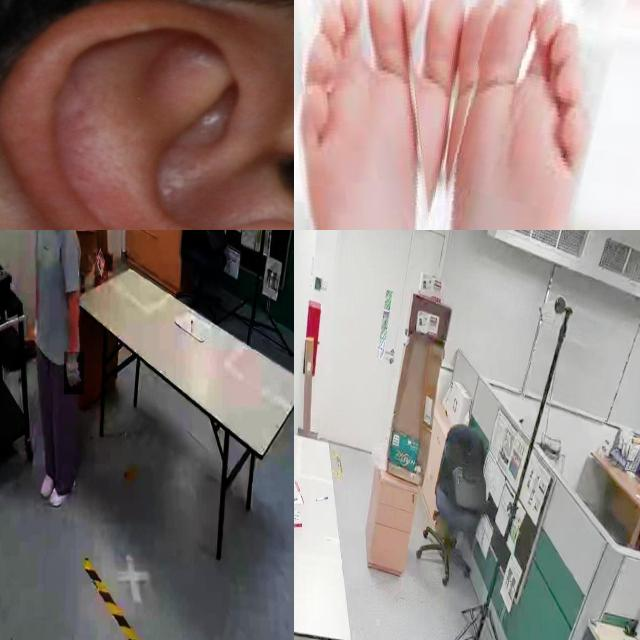Barefoots: (294, 0, 483, 230), (441, 0, 619, 230)
No_Ear-Protection: (0, 0, 294, 230)
hand_glove: (64, 352, 84, 395)
person: (18, 230, 95, 500)
shoes: (38, 466, 58, 498)
